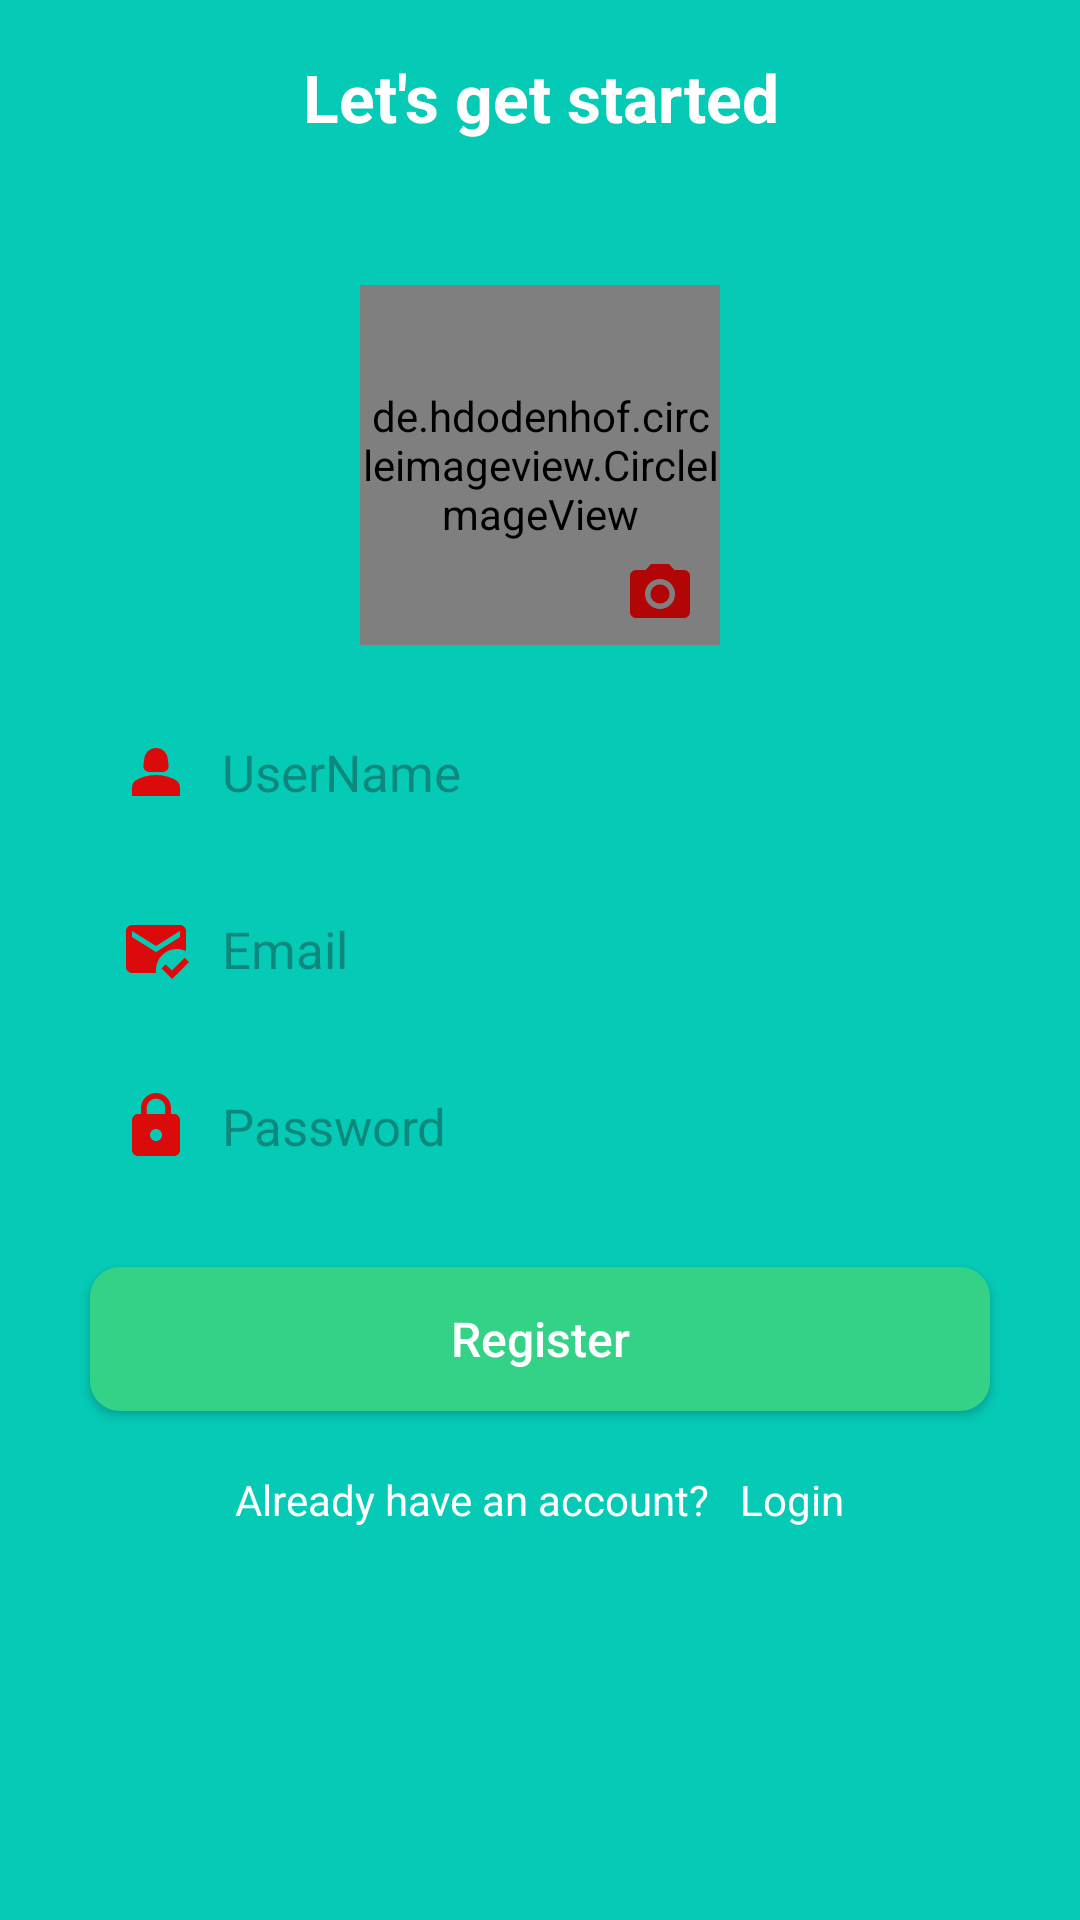

Icon bounding boxes for this 1080px x 1920px phone screenshot, format (x1,y1,x2,y2):
photo camera: (630,564,690,618)
